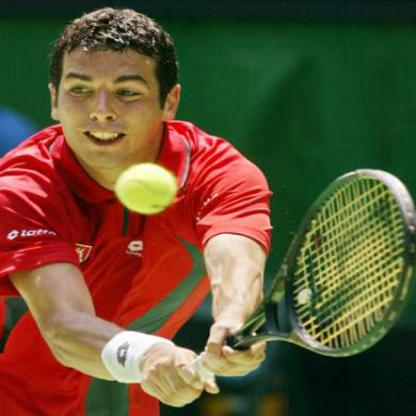face: (59, 17, 166, 174)
